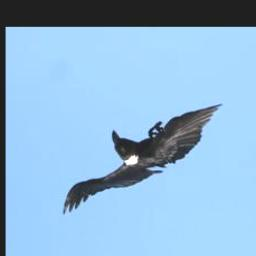Crow: (61, 104, 225, 218)
